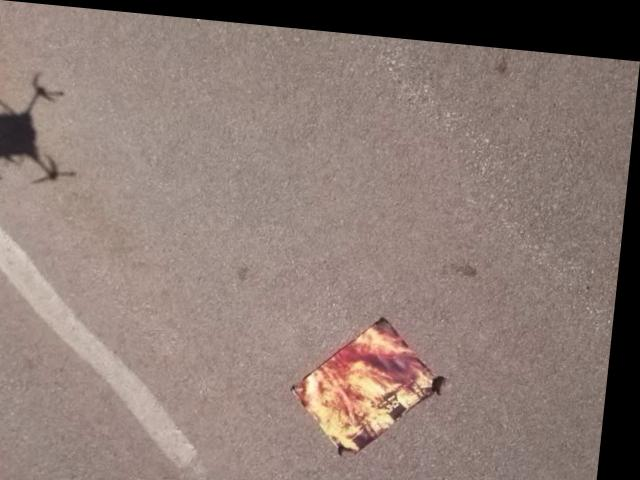fire-poster: (293, 301, 454, 458)
